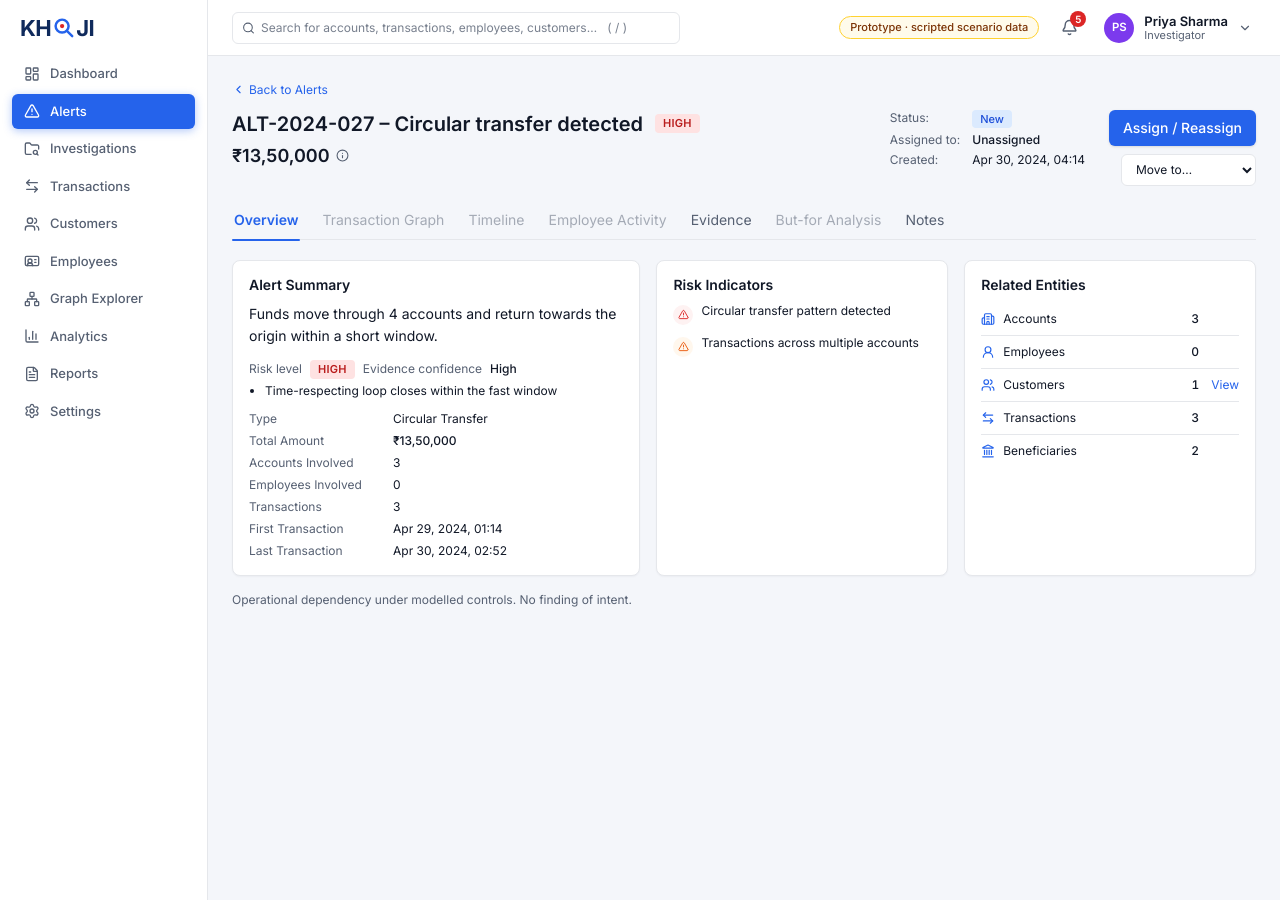
assign / reassign › assigning an unassigned alert auto-creates exactly one case in ASSIGNED
This screenshot has width=1280, height=900.
Expected: the text with test id "assigned-to" reads "Unassigned", [972,132,1040,147]
Step 1. Click the button "Assign / Reassign" → [1182, 128], box [1109,110,1256,146]
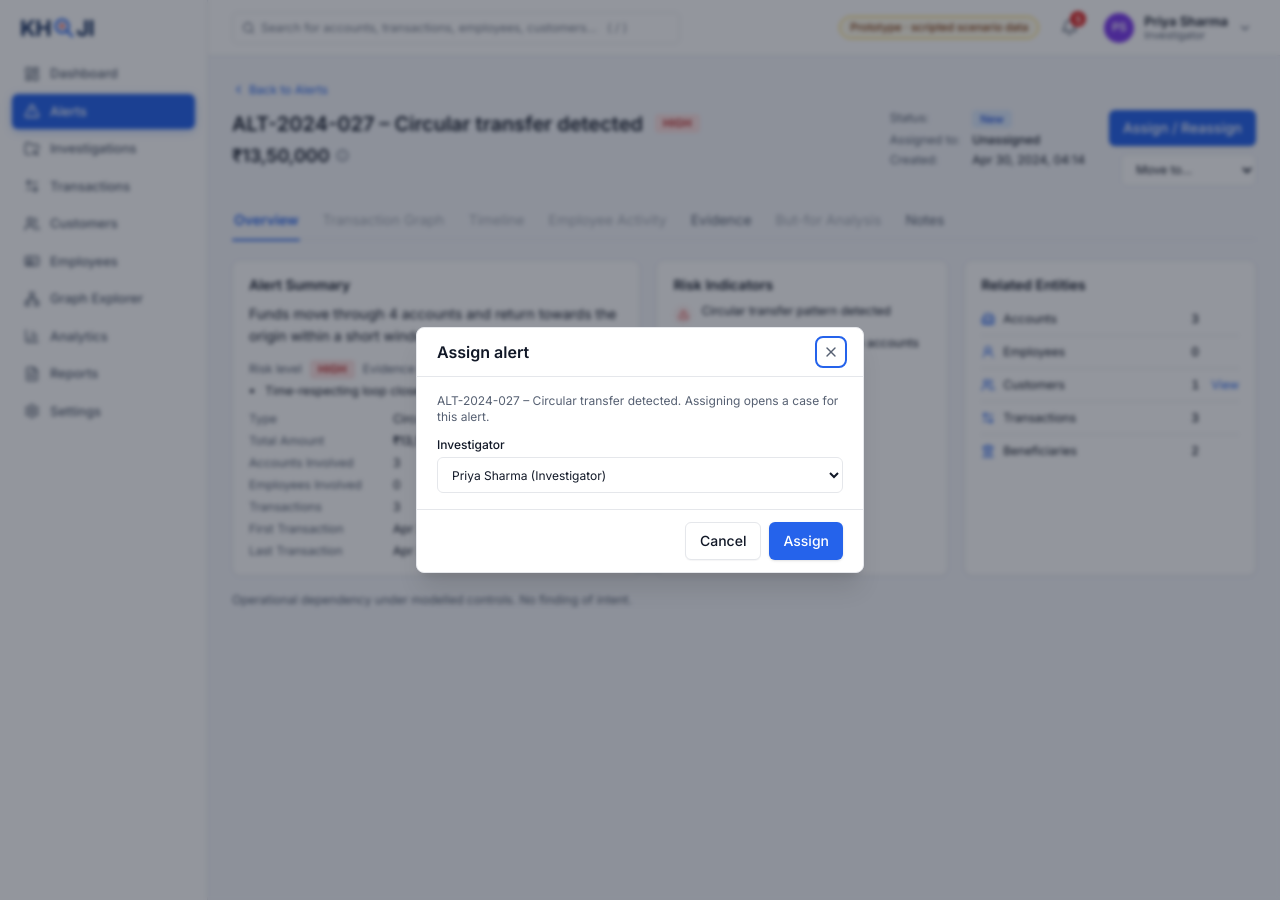
Step 2. Click the button "Assign" → [806, 541], box [769,522,843,560]
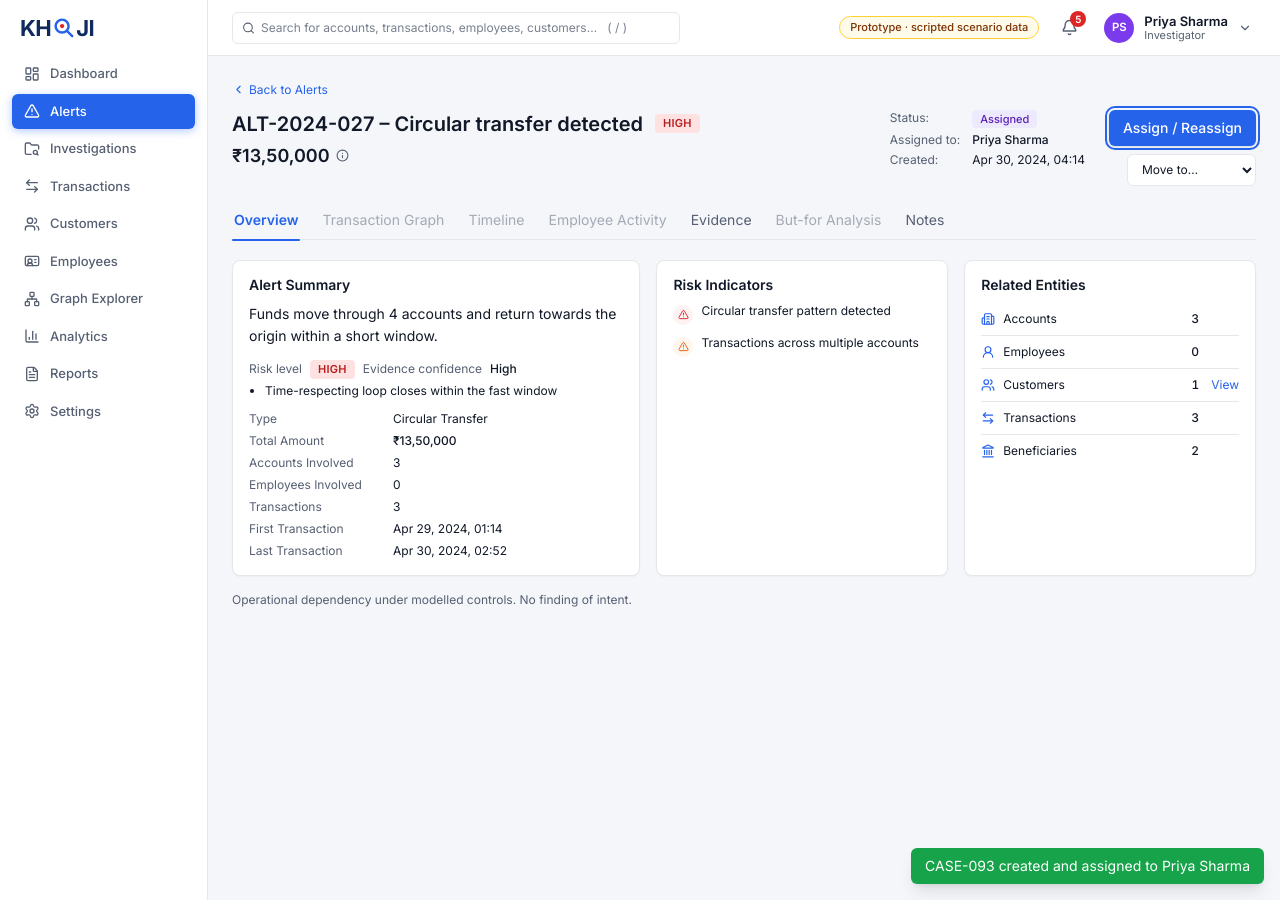
Expected: the text with test id "assigned-to" reads "Priya Sharma", [972,132,1049,147]
Step 3. Click the tab "Notes" → [925, 222], box [903,206,946,240]
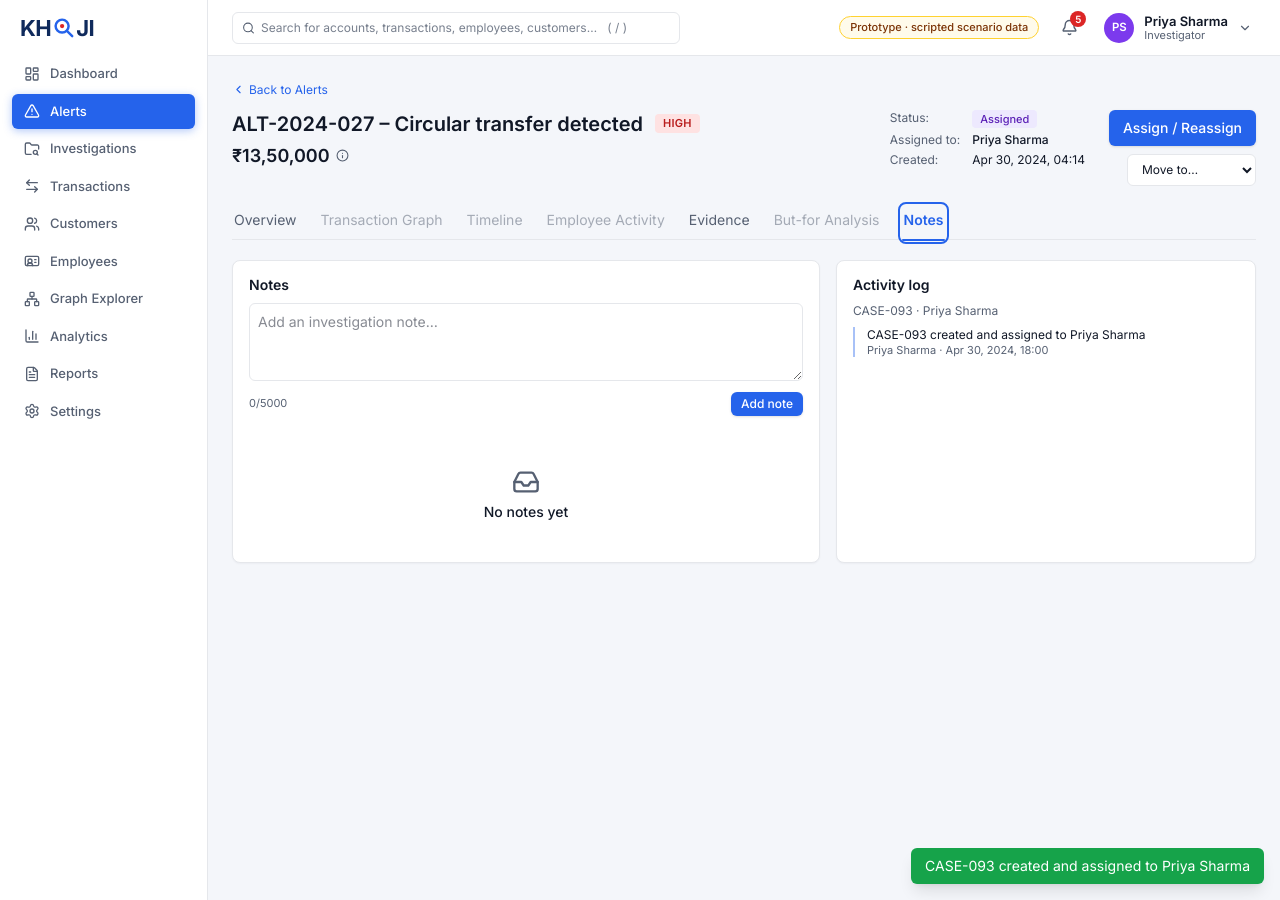
Expected: the number of list items is 1, [853,326,1239,357]
